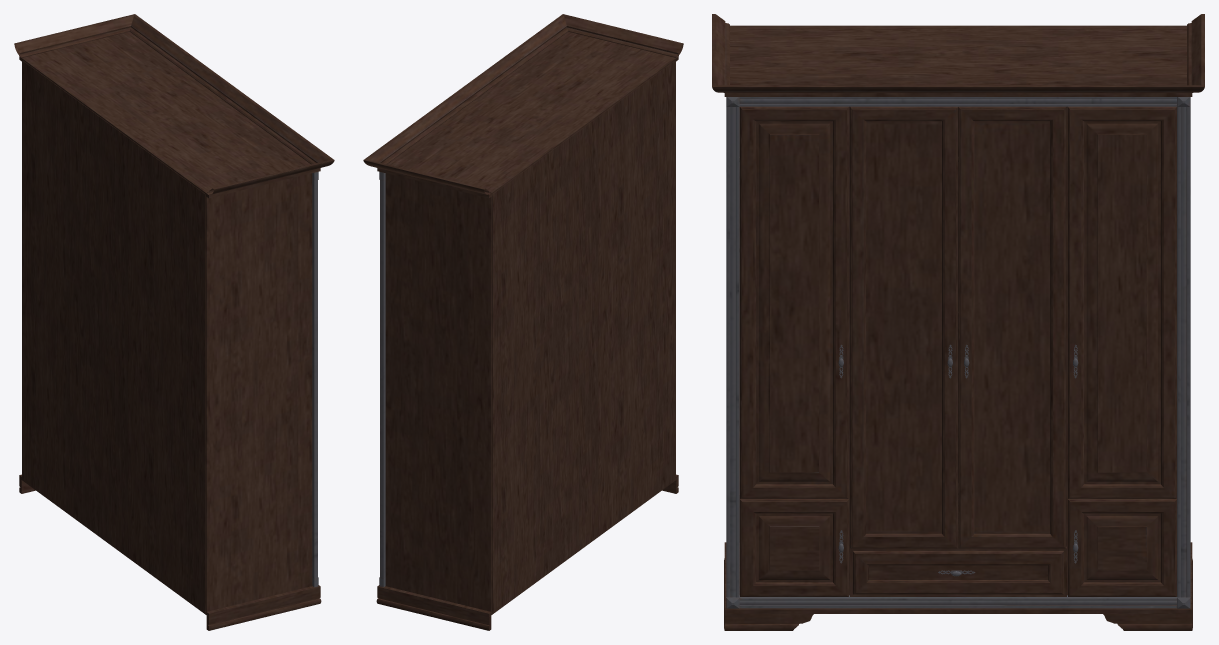
File: armadio.fbx
3 views of the same model, side by side, from view 1: azimuth 30°, elevation 25°; view 2: azimuth 150°, elevation 25°; view 3: azimuth 270°, elevation 25° (orthographic). The views are drawn at different scales.
Parts seen in each view (by area): view 1: Wardrobe 2; view 2: Wardrobe 2; view 3: Wardrobe 2.
Part boxes in pixels (x1=…): Wardrobe 2: x1=14, y1=14, x2=334, y2=630; Wardrobe 2: x1=363, y1=14, x2=683, y2=630; Wardrobe 2: x1=712, y1=14, x2=1204, y2=630.
Size of the model in its own units: 67.15 by 236 by 192.
